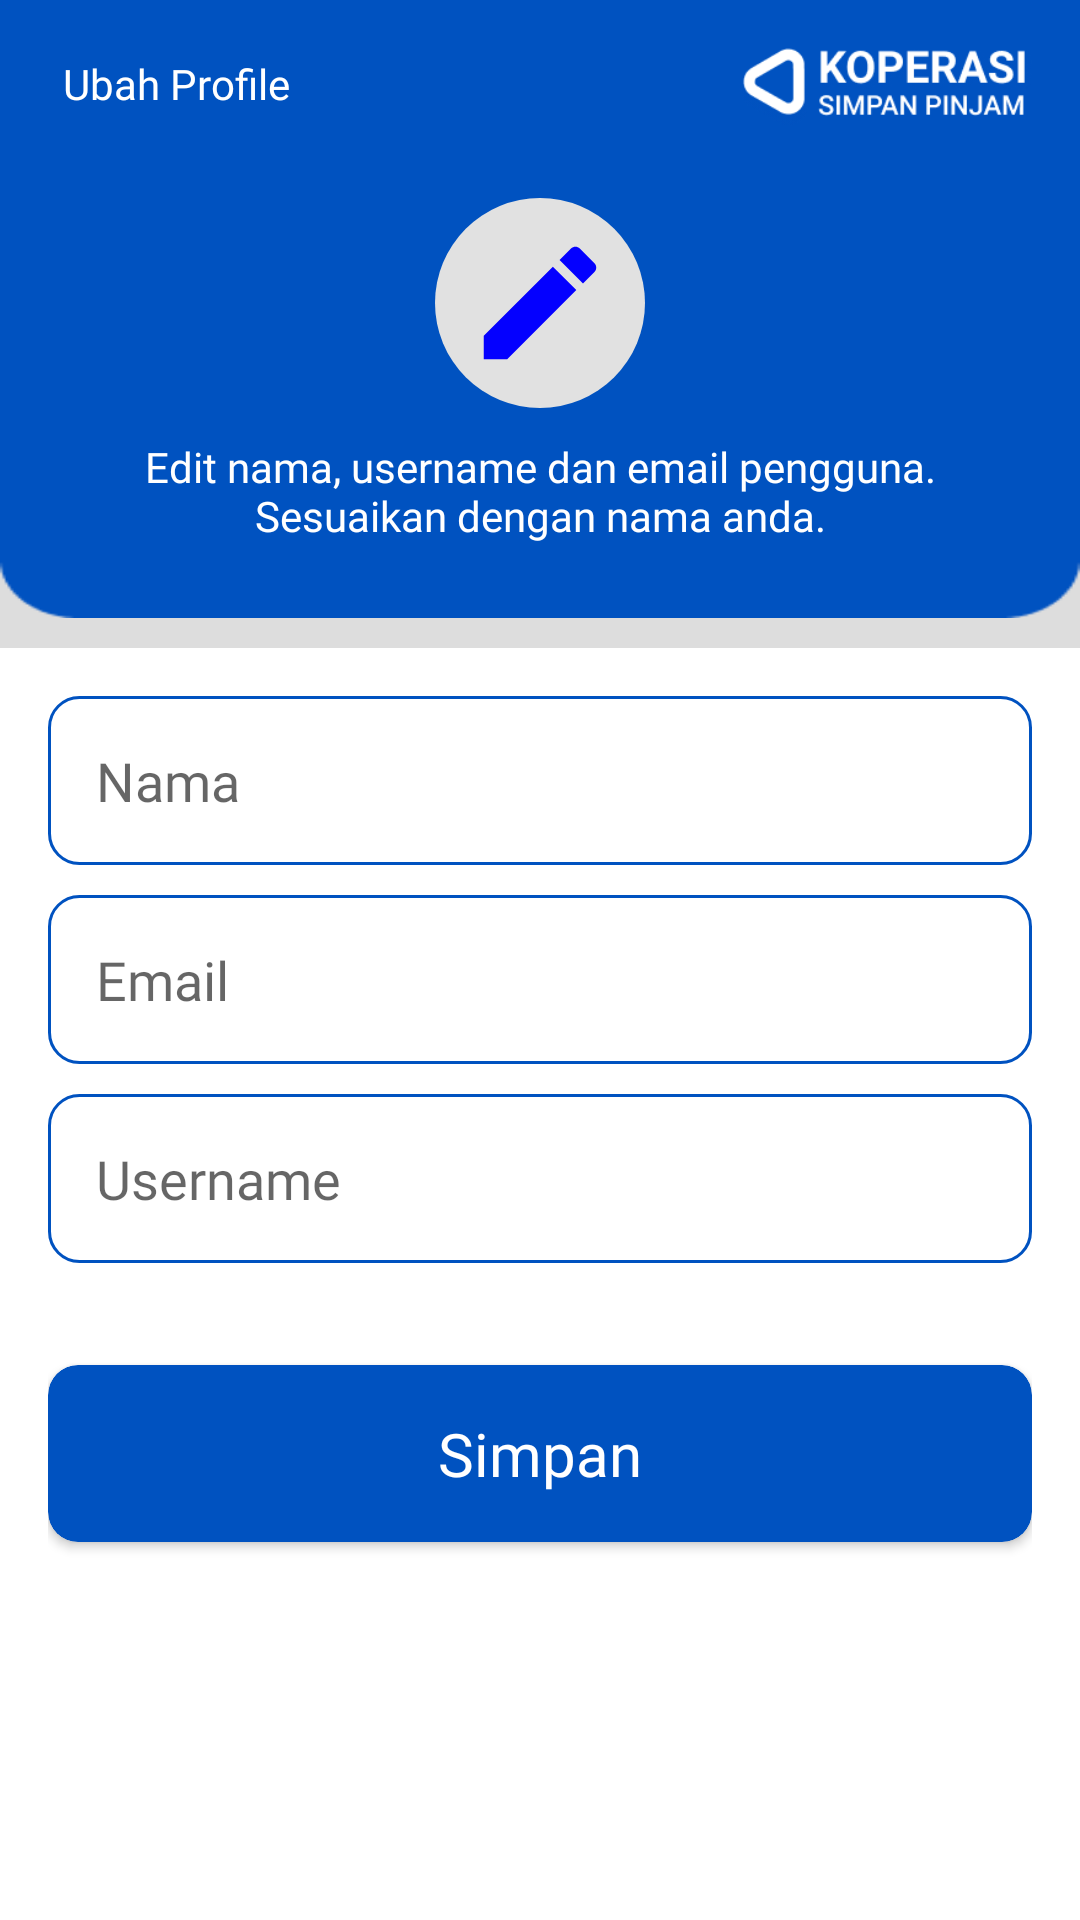

Named icons in this screenshot (1080x1920) and their centers, (x=x, y=y):
create: (x=540, y=303)
